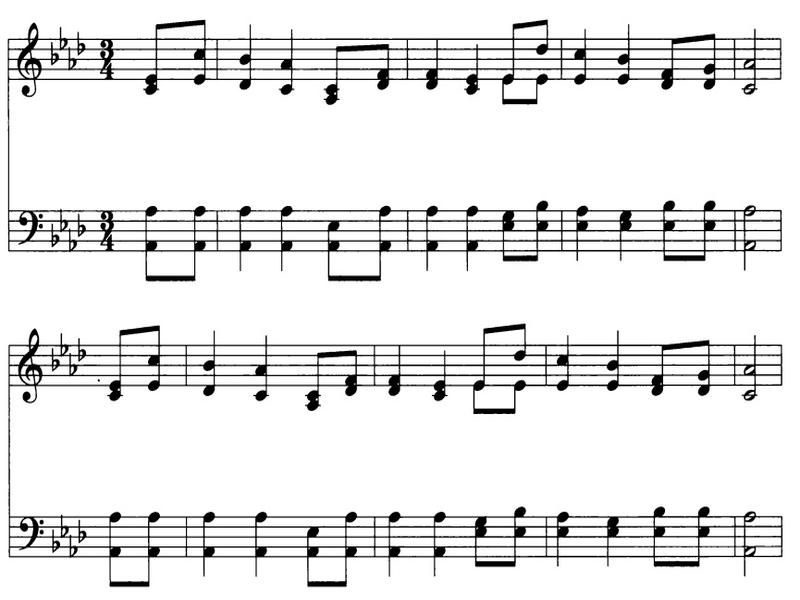B: (735, 504, 764, 582), (738, 196, 762, 275), (741, 333, 765, 405), (741, 25, 760, 103), (746, 14, 765, 71), (740, 193, 762, 236), (739, 544, 761, 582), (738, 237, 762, 267), (745, 331, 760, 375), (743, 378, 761, 410), (743, 508, 757, 543), (738, 74, 759, 96)
Bem: (47, 41, 66, 69), (52, 202, 71, 228), (64, 45, 77, 72), (74, 337, 87, 363), (74, 214, 87, 239), (66, 227, 79, 252), (77, 31, 89, 55), (65, 358, 77, 382), (59, 515, 70, 540), (49, 224, 59, 249), (77, 522, 88, 544), (66, 538, 77, 559), (52, 530, 60, 557), (57, 333, 67, 354), (57, 33, 69, 46), (50, 351, 57, 369)
C: (128, 193, 167, 291), (98, 492, 130, 592), (177, 196, 211, 288), (332, 504, 367, 592), (317, 186, 346, 289), (135, 14, 171, 96), (137, 503, 170, 591), (317, 39, 354, 114), (187, 2, 217, 86), (501, 494, 531, 573), (300, 342, 332, 414), (523, 196, 557, 263), (296, 519, 327, 592), (689, 193, 720, 264), (137, 312, 163, 394), (104, 324, 132, 398), (364, 35, 397, 97), (369, 197, 392, 285), (690, 500, 717, 574), (660, 27, 689, 93), (693, 24, 720, 94), (468, 322, 495, 390), (498, 17, 525, 84), (654, 186, 677, 263), (495, 200, 522, 262), (648, 337, 673, 403), (647, 494, 668, 570), (468, 511, 494, 568), (691, 334, 713, 396), (506, 375, 534, 421), (337, 343, 359, 398), (505, 318, 535, 357), (528, 13, 551, 52), (467, 378, 488, 418), (527, 68, 548, 105), (497, 71, 517, 109)
CF: (15, 497, 47, 560), (15, 199, 45, 251)
CS: (7, 321, 47, 409), (12, 7, 47, 104)
N: (188, 500, 229, 577), (598, 315, 632, 404), (417, 11, 451, 94), (273, 23, 306, 104), (270, 197, 305, 270), (227, 16, 259, 95), (241, 499, 273, 575), (608, 14, 638, 93), (551, 313, 578, 400), (459, 36, 491, 105), (413, 197, 443, 270), (420, 497, 447, 576), (378, 334, 407, 407), (197, 327, 226, 399), (250, 322, 273, 410), (570, 19, 597, 91), (613, 203, 639, 270), (452, 203, 481, 262), (232, 184, 251, 274), (603, 497, 625, 574), (385, 504, 406, 584), (574, 185, 595, 263), (428, 341, 452, 401), (555, 504, 578, 566)
